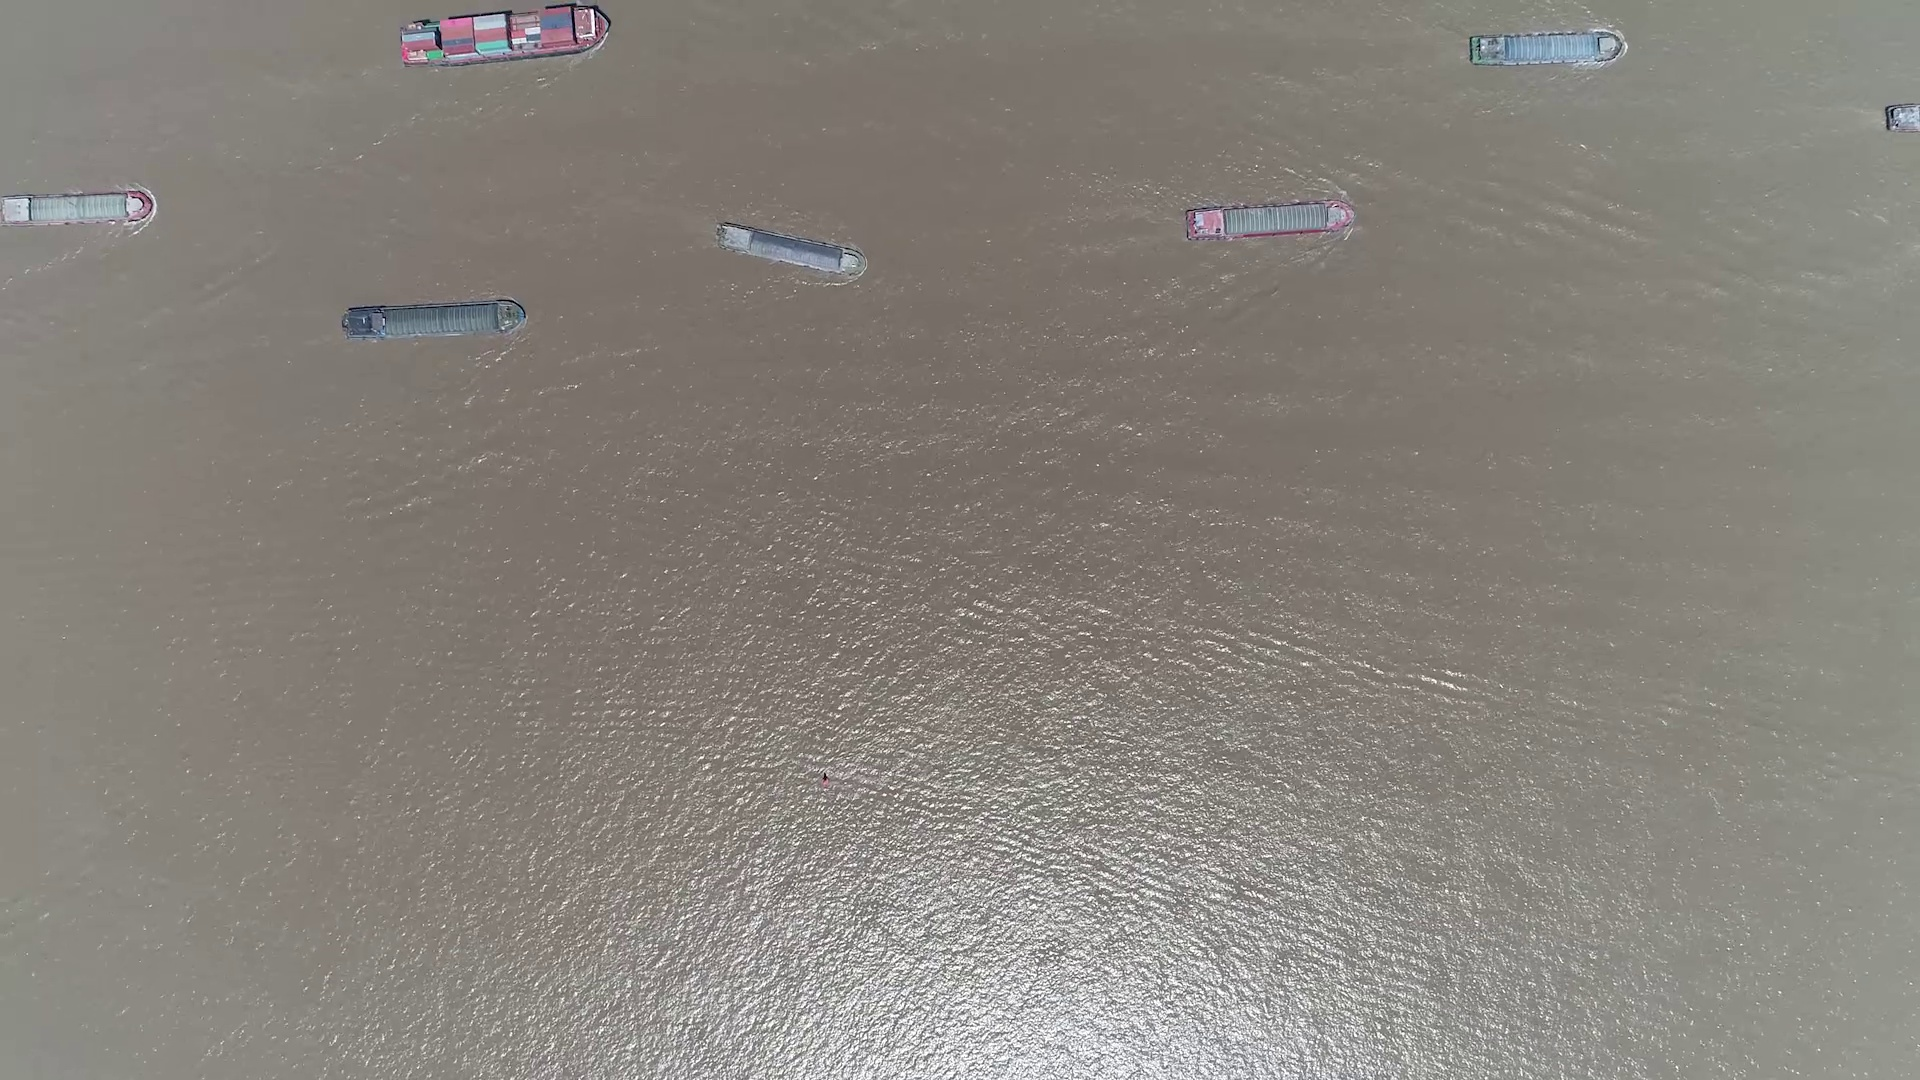ship: (400, 7, 609, 65), (715, 222, 864, 276), (343, 301, 524, 340), (1185, 203, 1356, 240), (1472, 33, 1619, 69), (0, 193, 156, 225)
